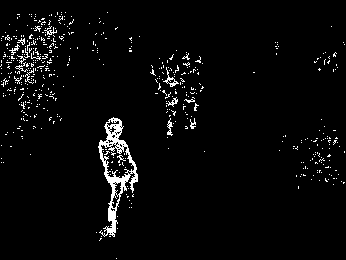person: (101, 117, 143, 242)
